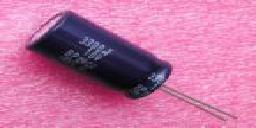Electrolytic-Capacitor: (22, 6, 239, 127)
